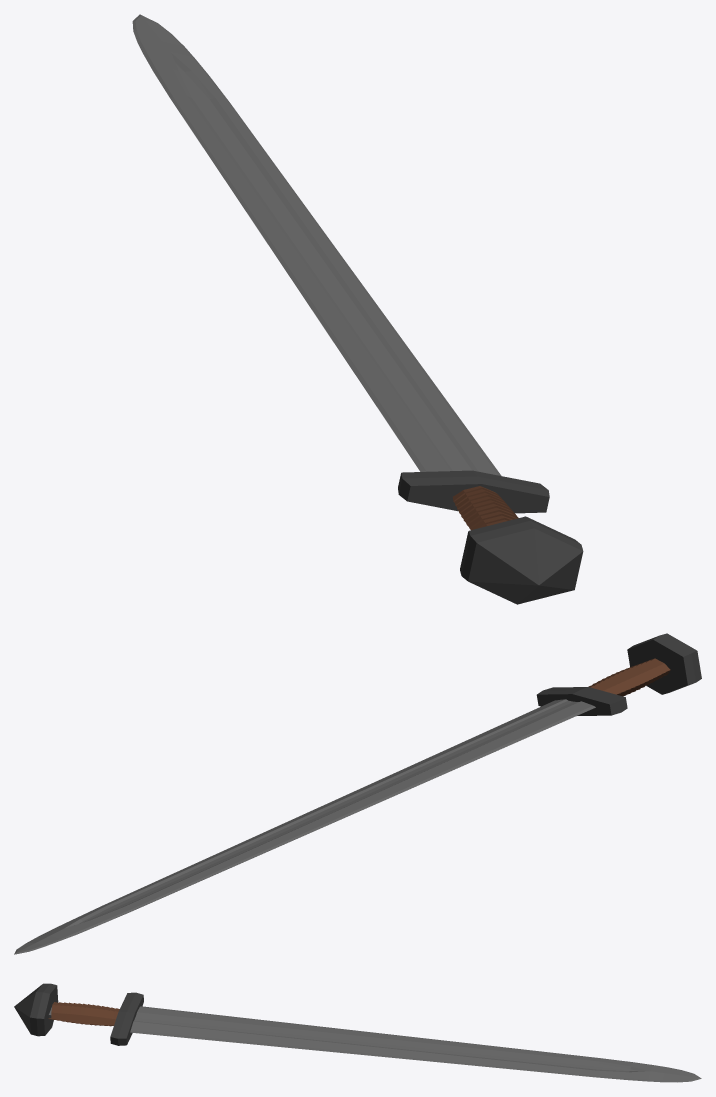
Rendered from sword.fbx.
3 renders of one model, top to bottom at view 1: azimuth 30°, elevation 25°; view 2: azimuth 150°, elevation 25°; view 3: azimuth 270°, elevation 25°, orthographic. The views are drawn at different scales.
Parts seen in each view (by area): view 1: Cube.020; view 2: Cube.020; view 3: Cube.020.
Part boxes in pixels (x1=…): Cube.020: x1=132, y1=14, x2=583, y2=604; Cube.020: x1=14, y1=633, x2=701, y2=954; Cube.020: x1=14, y1=983, x2=701, y2=1082.
Bounding box in the file's own units: 39.68 × 8.68 × 140.
